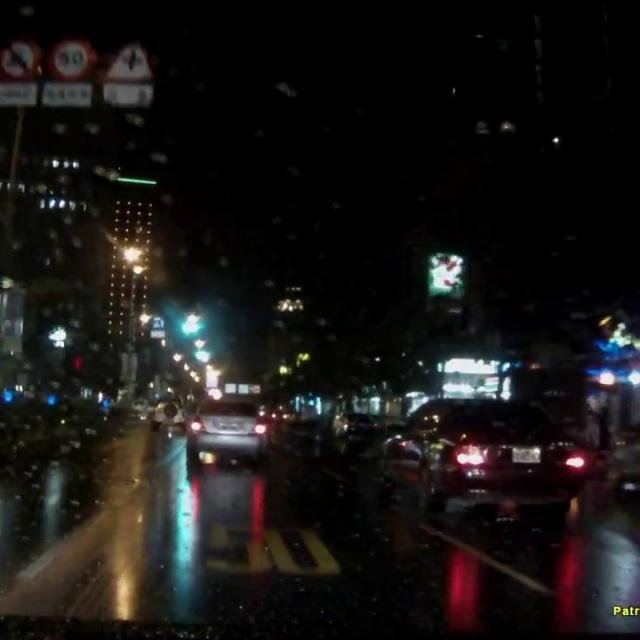Car: (378, 398, 588, 516), (180, 399, 269, 465), (148, 393, 186, 429), (330, 411, 377, 440)
